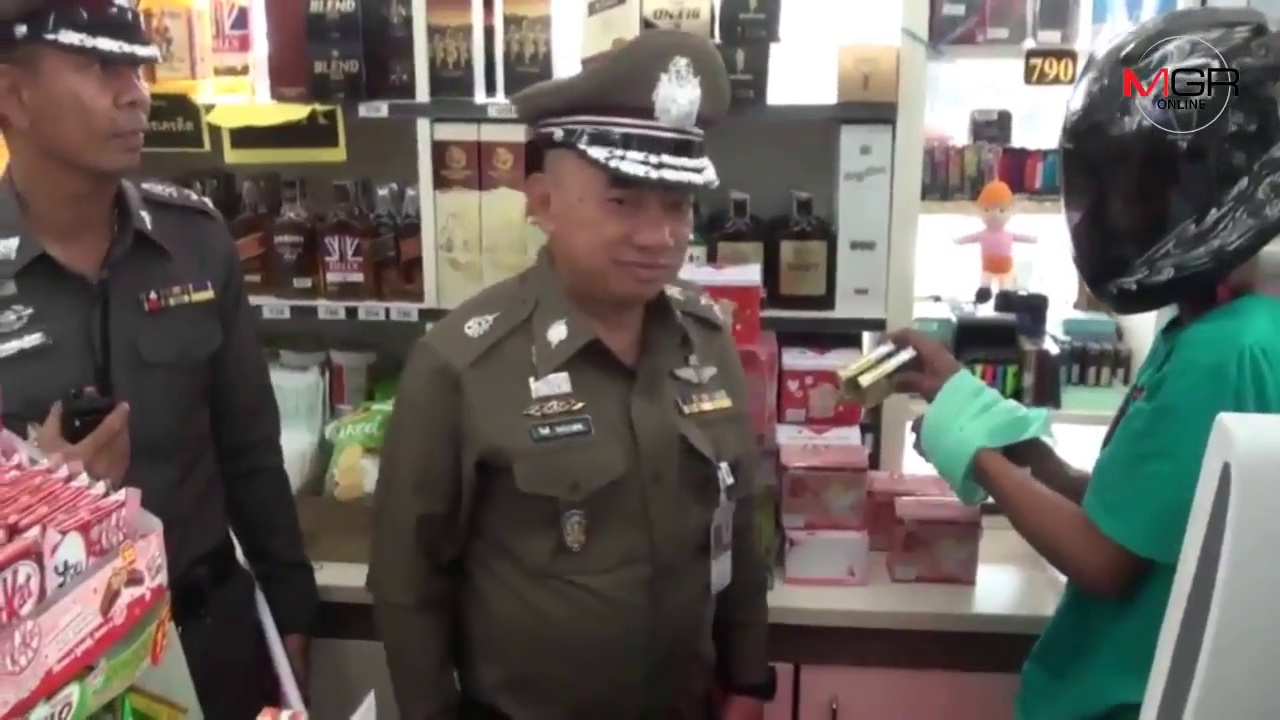helmet: (1041, 11, 1277, 309)
